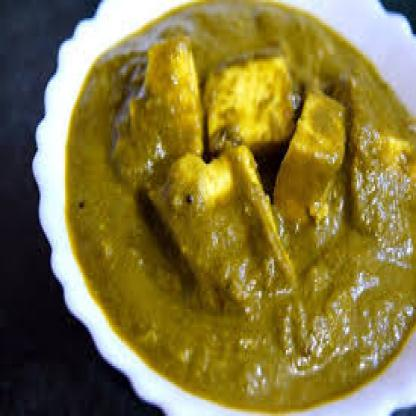palak_paneer: (66, 0, 416, 414)
